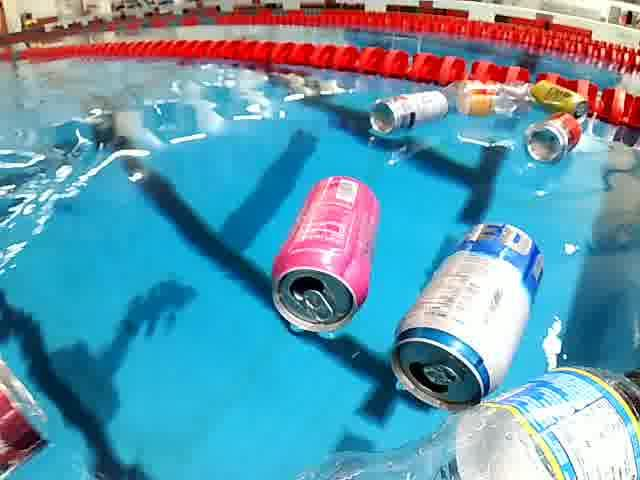Bottle: (280, 346, 639, 480), (430, 74, 539, 116)
Can: (383, 216, 547, 418), (262, 172, 388, 335), (0, 352, 63, 480), (363, 87, 451, 138), (519, 109, 587, 169), (529, 77, 592, 124)
